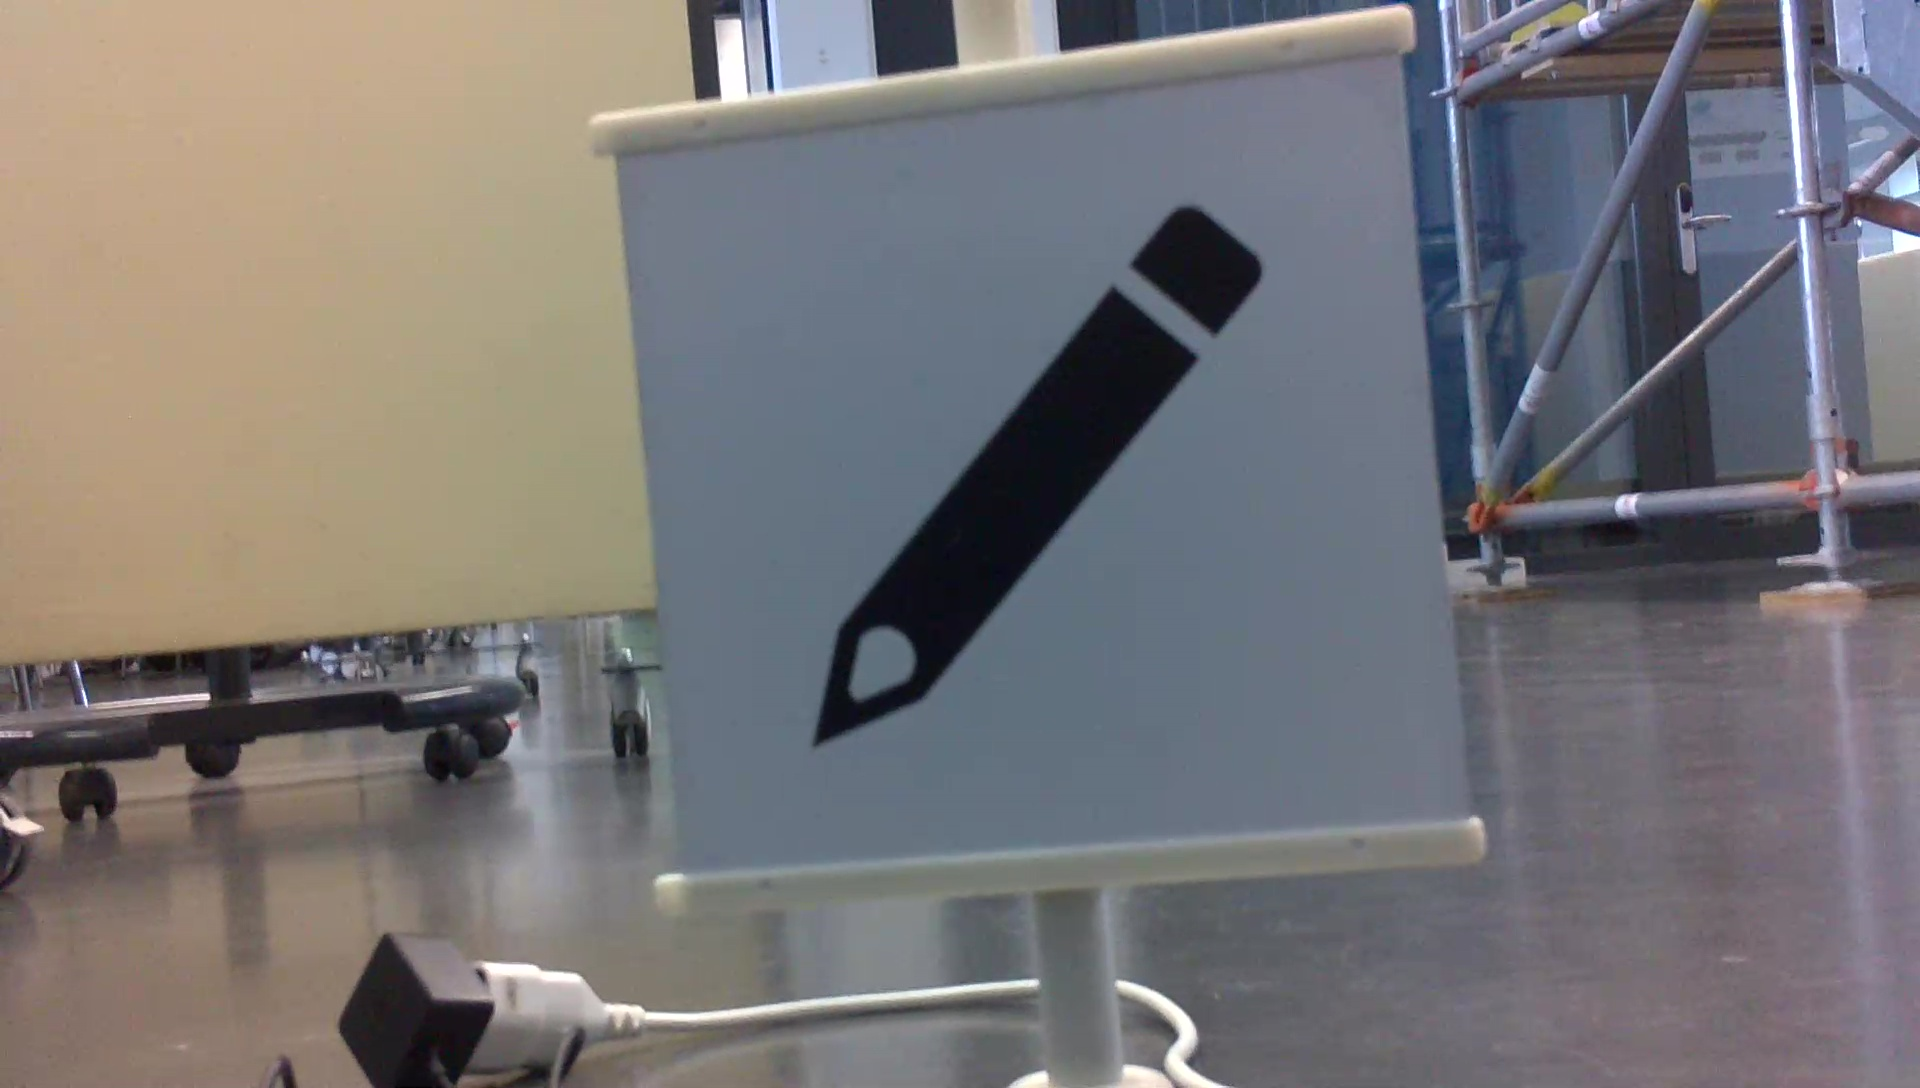pencil: (789, 187, 1284, 765)
